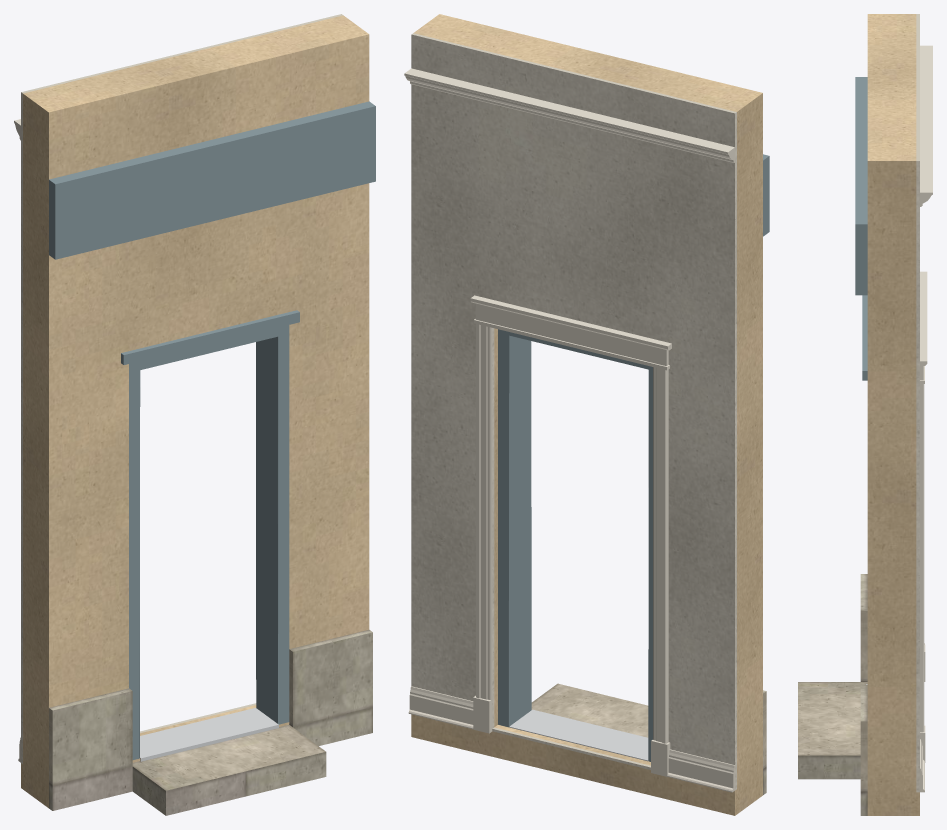
Rendered from wall_shop_door.glb.
The picture shows the model from 3 angles, left to right: view 1: azimuth 30°, elevation 25°; view 2: azimuth 150°, elevation 25°; view 3: azimuth 270°, elevation 25°; orthographic projection. The views are drawn at different scales.
Parts seen in each view (by area): view 1: wall_shop_door_render, wall_shop_door_stone, wall_shop_door_fascia, wall_shop_door_frame2, wall_shop_door_metal, wall_shop_door_plaster; view 2: wall_shop_door_plaster, wall_shop_door_render, molduras, wall_shop_door_frame2, wall_shop_door_stone, wall_shop_door_metal; view 3: wall_shop_door_render, wall_shop_door_stone, molduras, wall_shop_door_plaster, wall_shop_door_fascia, wall_shop_door_frame2.
Part boxes in pixels (x1=…): wall_shop_door_render: x1=21, y1=15, x2=369, y2=808; wall_shop_door_stone: x1=49, y1=629, x2=372, y2=815; wall_shop_door_fascia: x1=49, y1=101, x2=375, y2=259; wall_shop_door_frame2: x1=121, y1=310, x2=299, y2=759; wall_shop_door_metal: x1=140, y1=708, x2=278, y2=761; wall_shop_door_plaster: x1=21, y1=14, x2=342, y2=763; wall_shop_door_plaster: x1=411, y1=33, x2=736, y2=790; wall_shop_door_render: x1=411, y1=14, x2=762, y2=815; molduras: x1=404, y1=68, x2=734, y2=792; wall_shop_door_frame2: x1=498, y1=329, x2=652, y2=761; wall_shop_door_stone: x1=531, y1=683, x2=766, y2=794; wall_shop_door_metal: x1=509, y1=709, x2=648, y2=761; wall_shop_door_render: x1=867, y1=14, x2=919, y2=815; wall_shop_door_stone: x1=798, y1=574, x2=867, y2=815; molduras: x1=920, y1=45, x2=932, y2=792; wall_shop_door_plaster: x1=916, y1=14, x2=919, y2=792; wall_shop_door_fascia: x1=855, y1=77, x2=867, y2=295; wall_shop_door_frame2: x1=862, y1=295, x2=867, y2=380.
Size of the model in its own units: 2 by 4.15 by 0.775.
7 materials, 3 textured.
